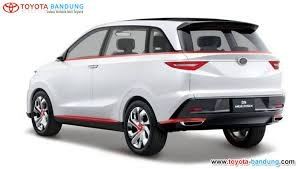mobil: (26, 18, 285, 146)
